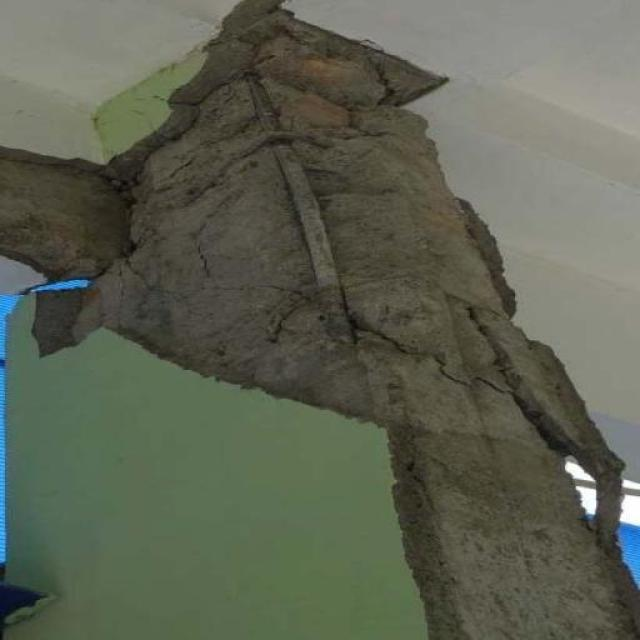D0w0: (1, 0, 636, 639)
